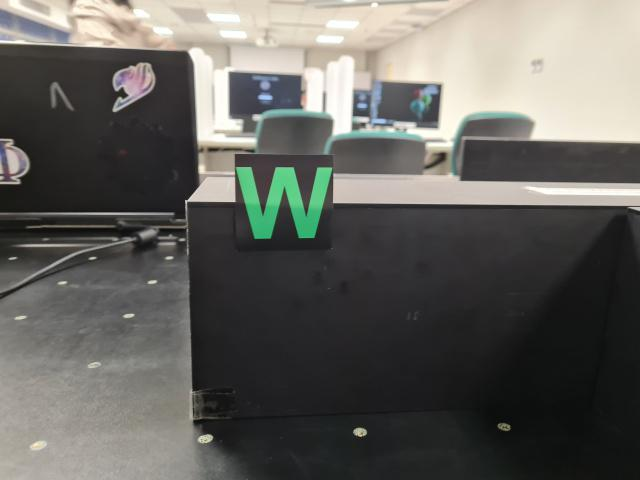w: (235, 153, 334, 253)
